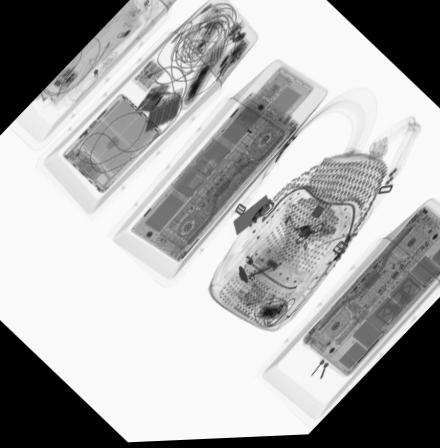Powerbank: (140, 88, 183, 133)
